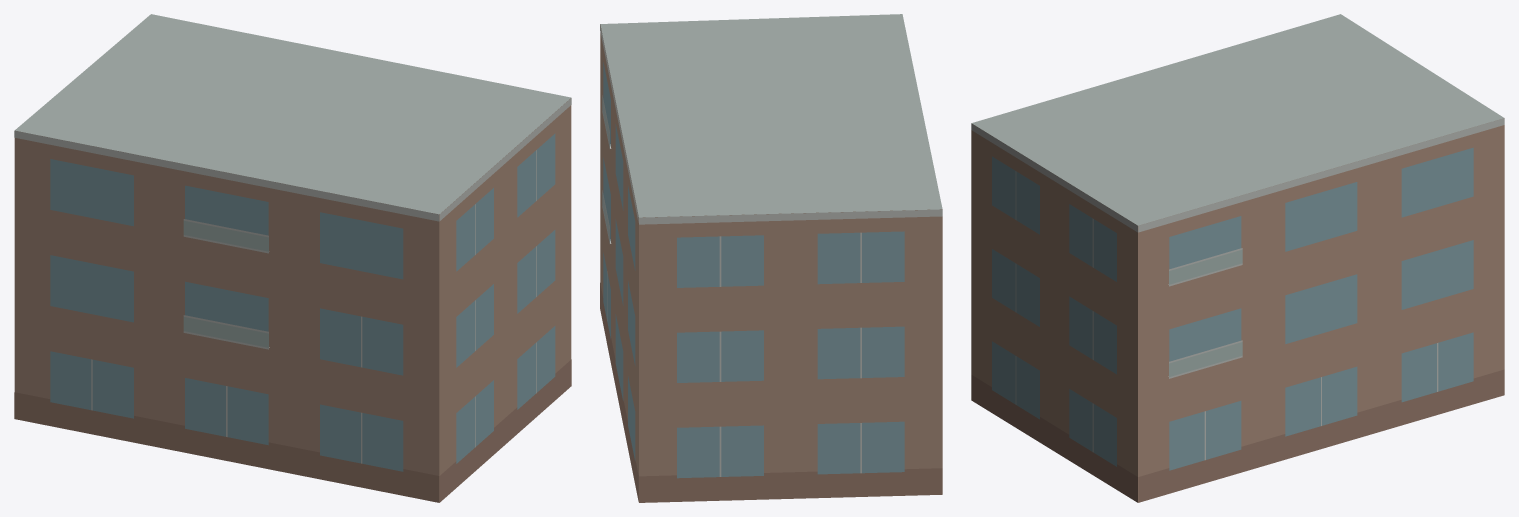
File: survey-upis-32537759.glb
The picture shows the model from 3 angles, left to right: view 1: azimuth 30°, elevation 25°; view 2: azimuth 150°, elevation 25°; view 3: azimuth 270°, elevation 25°; orthographic projection. The views are drawn at different scales.
Visible parts, largest first — view 1: survey-upis-32537759.tmp; view 2: survey-upis-32537759.tmp; view 3: survey-upis-32537759.tmp.
Boxes of the visible parts, left/top/right/bottom form: survey-upis-32537759.tmp: left=14, top=14, right=571, bottom=502; survey-upis-32537759.tmp: left=600, top=14, right=942, bottom=502; survey-upis-32537759.tmp: left=971, top=14, right=1504, bottom=502.
Bounding box in the file's own units: 16.06 × 9.8 × 17.09.
